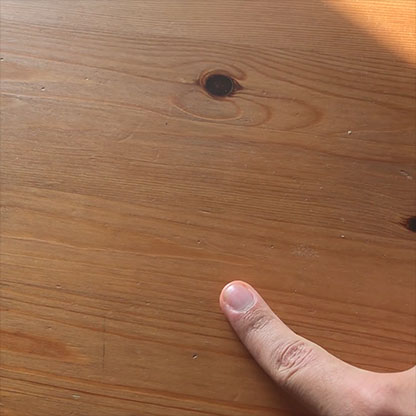fingertip: (214, 274, 266, 330)
